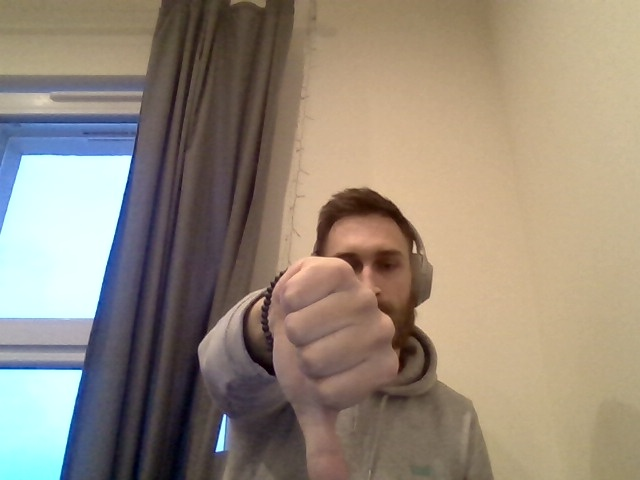ThumbsDown: (271, 255, 401, 480)
